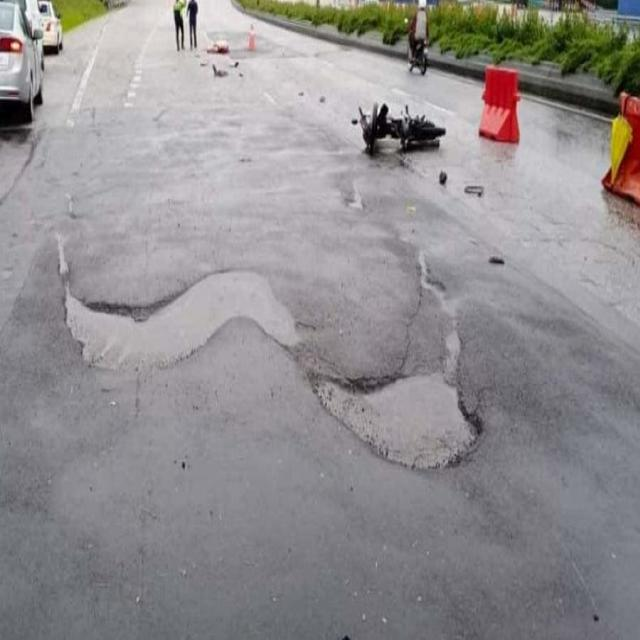Pothole: (34, 180, 534, 542)
